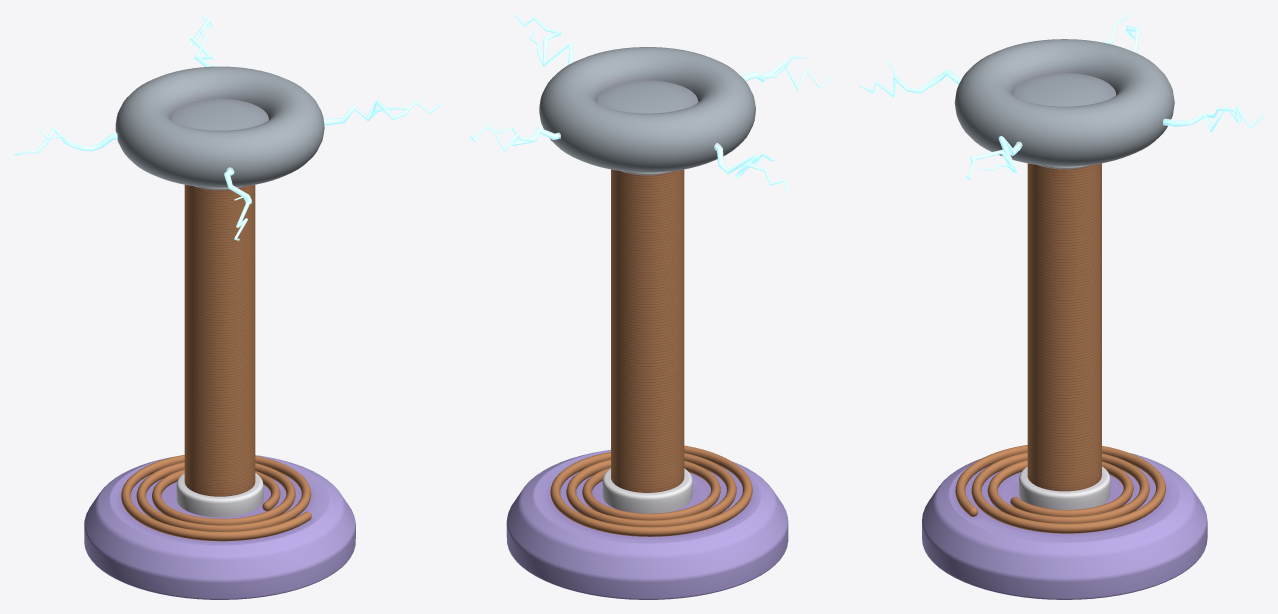
Rendered from tesla-coil.glb.
The picture shows the model from 3 angles, left to right: view 1: azimuth 30°, elevation 25°; view 2: azimuth 150°, elevation 25°; view 3: azimuth 270°, elevation 25°; orthographic projection. The views are drawn at different scales.
Visible parts, largest first — view 1: tesla-coil_body, tesla-coil_spark_glow; view 2: tesla-coil_body, tesla-coil_spark_glow; view 3: tesla-coil_body, tesla-coil_spark_glow.
Boxes of the visible parts, x1,y1,x2,y2 form: tesla-coil_body: (84, 66, 355, 599); tesla-coil_spark_glow: (14, 14, 441, 240); tesla-coil_body: (506, 47, 788, 599); tesla-coil_spark_glow: (470, 14, 830, 193); tesla-coil_body: (922, 39, 1207, 599); tesla-coil_spark_glow: (859, 14, 1263, 180).
Bounding box in the file's own units: 0.293 × 0.3635 × 0.2834.
Materials: 3 (1 with a texture image).
